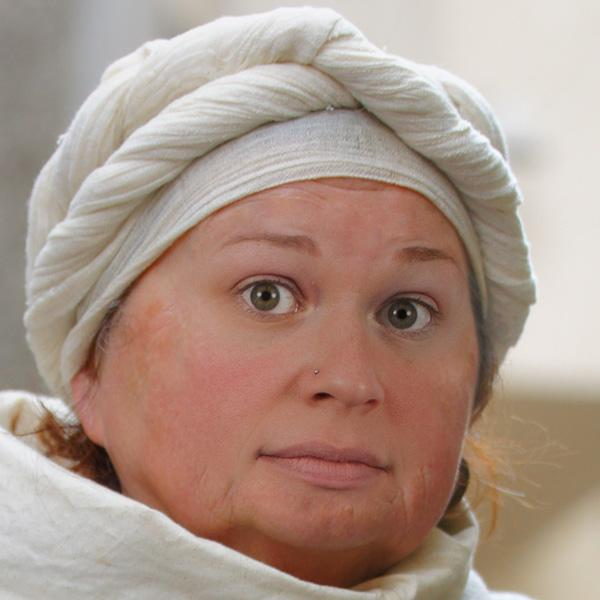Eyes: (225, 263, 314, 331), (366, 280, 455, 348)
